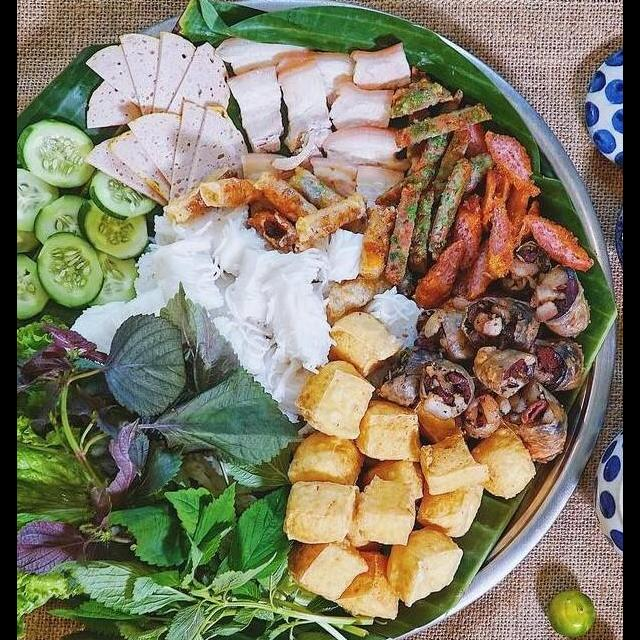bun: (63, 189, 369, 435), (363, 279, 430, 349)
bun dau: (27, 28, 613, 640)
cha com: (404, 117, 597, 311), (360, 63, 494, 289)
cha gio: (151, 159, 371, 254)
dau hu: (290, 355, 378, 444), (380, 520, 467, 610), (321, 307, 407, 383), (278, 474, 363, 549), (289, 532, 372, 607), (468, 421, 541, 505), (325, 547, 405, 623), (411, 468, 489, 541), (347, 395, 428, 465), (284, 426, 370, 490), (416, 427, 490, 498), (351, 471, 418, 549)
doi sun: (366, 238, 593, 468)
thit heo: (304, 116, 418, 217), (322, 38, 415, 137), (271, 55, 338, 163), (221, 61, 285, 158), (209, 31, 317, 83)
